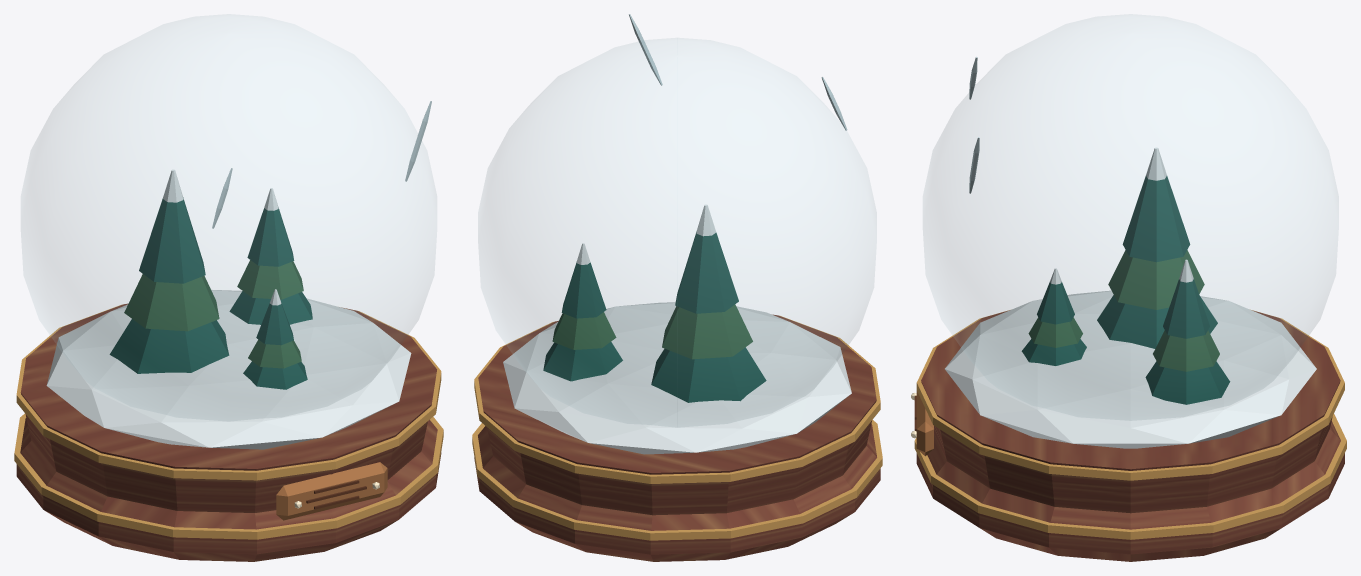
The model's file is snow_globe_spruce.glb.
3 views of the same model, side by side, from view 1: azimuth 30°, elevation 25°; view 2: azimuth 150°, elevation 25°; view 3: azimuth 270°, elevation 25° (orthographic). The views are drawn at different scales.
Visible parts, largest first — view 1: snow_globe_spruce; view 2: snow_globe_spruce; view 3: snow_globe_spruce.
Boxes of the visible parts, bbox=[...] form: snow_globe_spruce: bbox=[14, 14, 443, 561]; snow_globe_spruce: bbox=[472, 14, 882, 561]; snow_globe_spruce: bbox=[911, 14, 1346, 561].
Bounding box in the file's own units: 0.202 × 0.231 × 0.2037.
10 materials, 1 textured.
